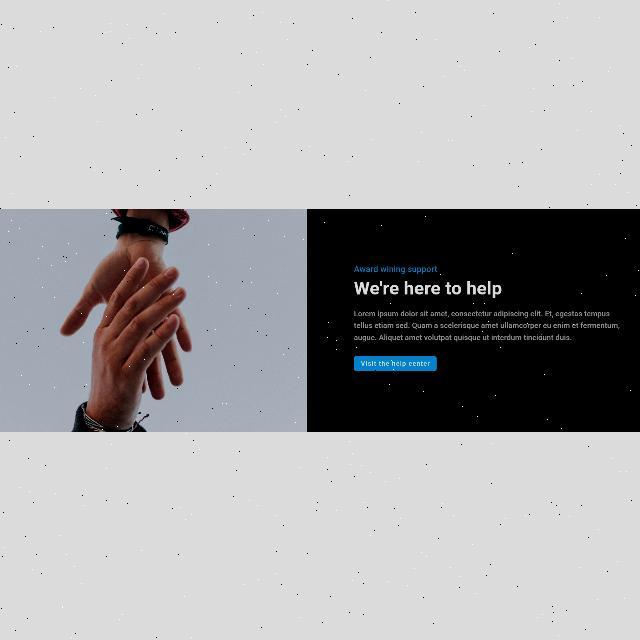QLabel: (352, 308, 622, 342), (352, 279, 502, 299), (354, 265, 438, 273), (361, 359, 432, 366)
VBtn: (353, 354, 437, 370)
VImg: (1, 208, 308, 432)
